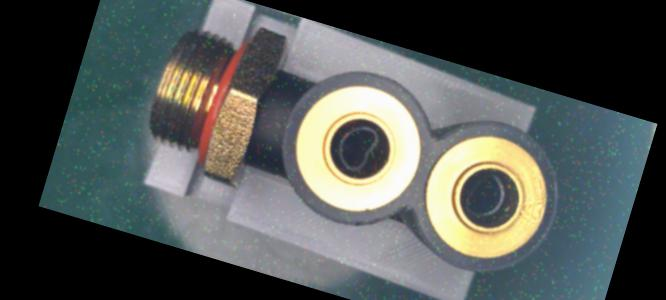off-centered: (456, 166, 515, 226), (330, 120, 386, 179)
